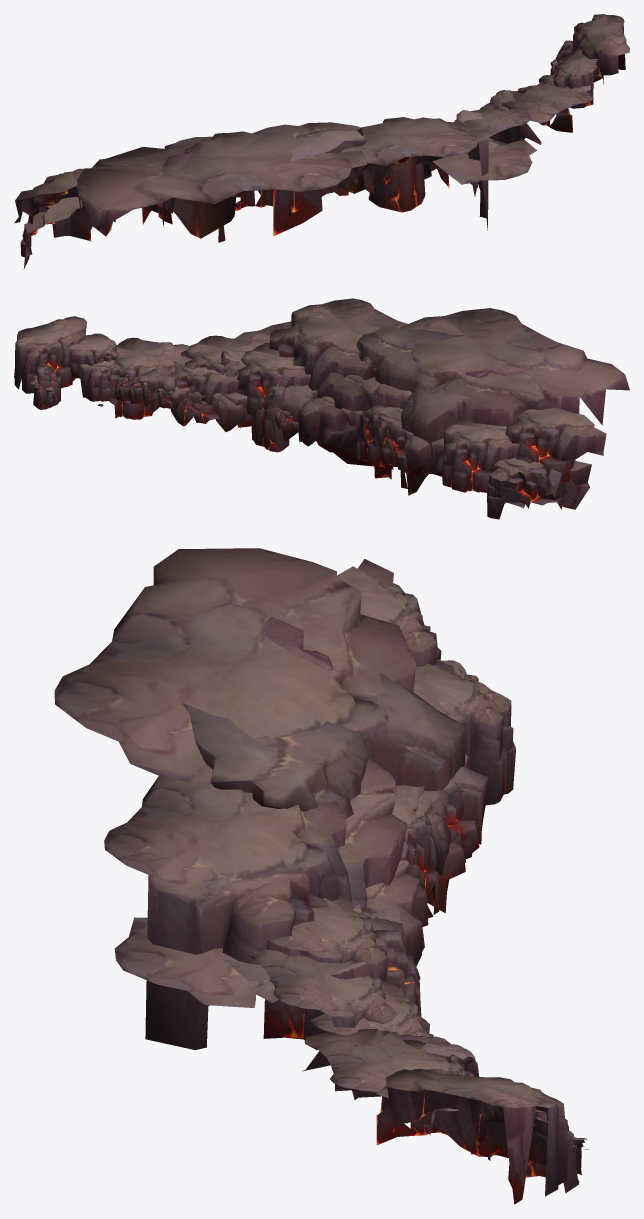
The model's file is yanshi16_1.fbx.
3 views of the same model, one above another, from view 1: azimuth 30°, elevation 25°; view 2: azimuth 150°, elevation 25°; view 3: azimuth 270°, elevation 25° (orthographic). The views are drawn at different scales.
Visible parts, largest first — view 1: yanshi16_1; view 2: yanshi16_1; view 3: yanshi16_1.
Boxes of the visible parts, box(x1,y1,x2,y2) form: yanshi16_1: box(14, 14, 629, 269); yanshi16_1: box(14, 298, 629, 519); yanshi16_1: box(54, 548, 588, 1204).
Bounding box in the file's own units: 21225 × 4214 × 8854.
